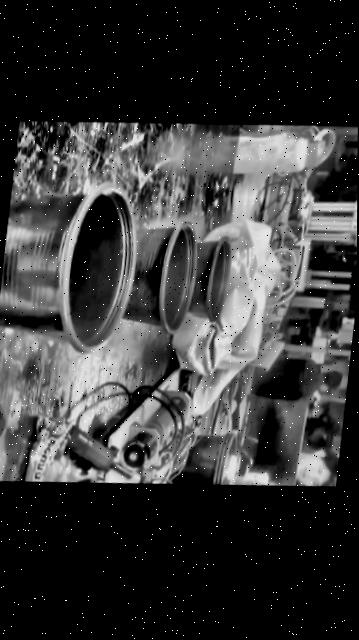pot: (0, 174, 140, 363), (122, 222, 197, 334), (172, 426, 232, 490), (187, 237, 230, 321)
